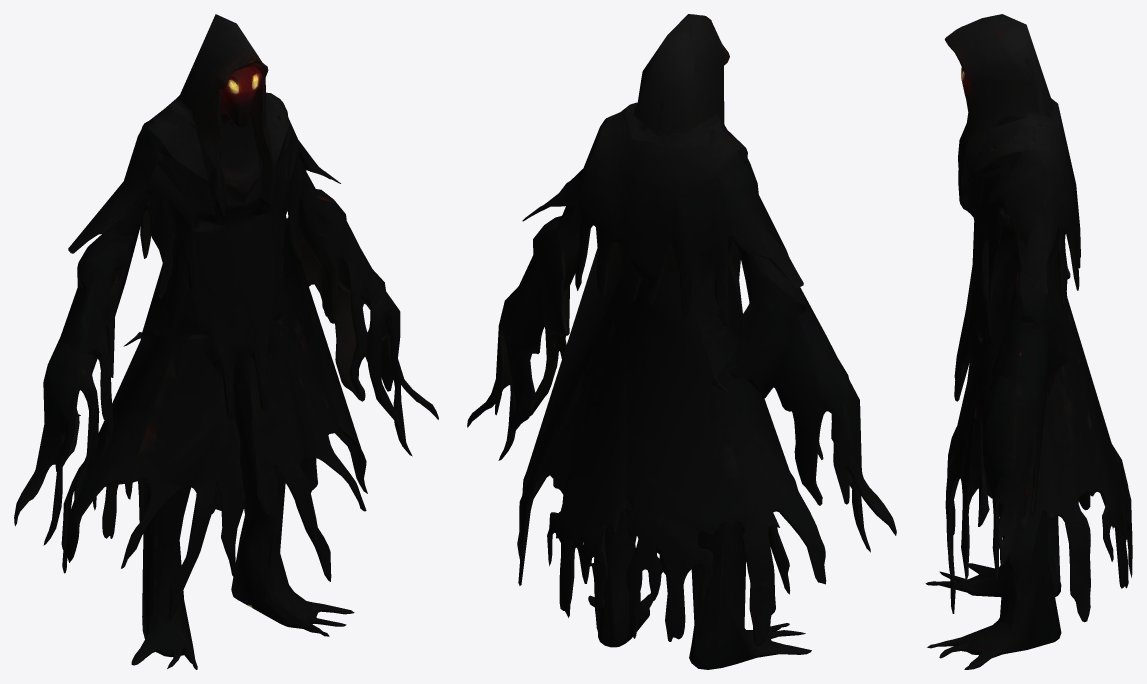
Rendered from void.glb.
The picture shows the model from 3 angles, left to right: view 1: azimuth 30°, elevation 25°; view 2: azimuth 150°, elevation 25°; view 3: azimuth 270°, elevation 25°; orthographic projection. The views are drawn at different scales.
Parts seen in each view (by area): view 1: Mesh; view 2: Mesh; view 3: Mesh.
Part boxes in pixels (<box>): Mesh: <box>14,14,438,669</box>; Mesh: <box>467,14,896,669</box>; Mesh: <box>925,14,1132,669</box>.
Bounding box in the file's own units: 1.37 × 1.89 × 0.5882.
1 material, 1 textured.
